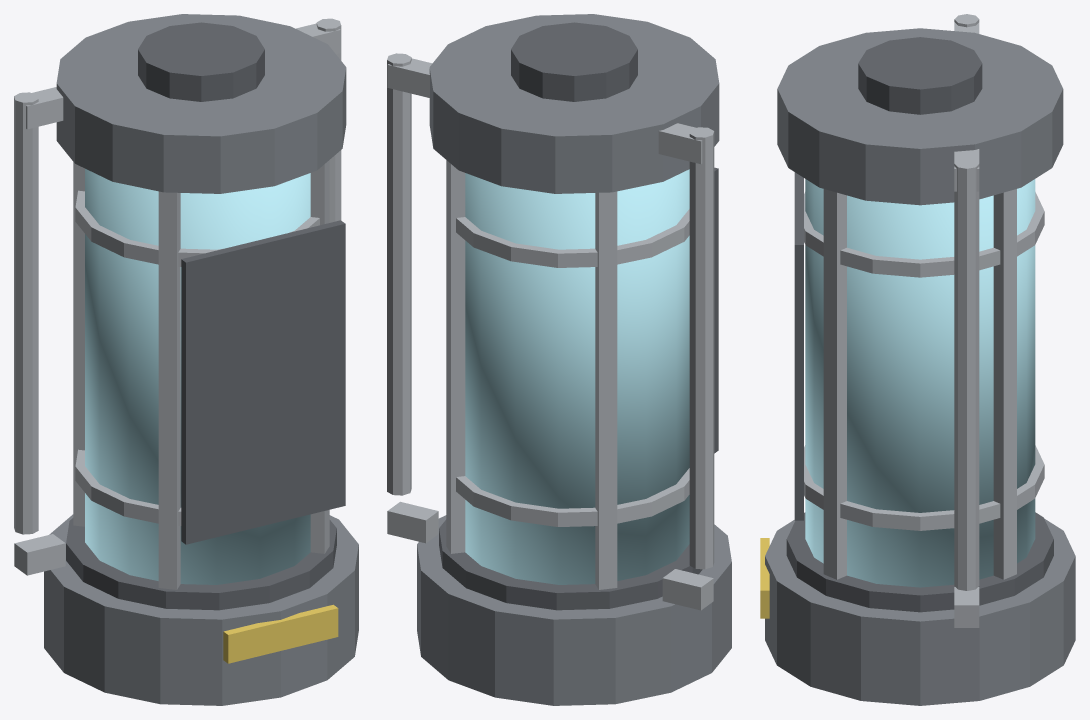
Rendered from obj_cryo.fbx.
3 renders of one model, left to right at view 1: azimuth 30°, elevation 25°; view 2: azimuth 150°, elevation 25°; view 3: azimuth 270°, elevation 25°, orthographic. The views are drawn at different scales.
Visible parts, largest first — view 1: obj_cryo; view 2: obj_cryo; view 3: obj_cryo.
Boxes of the visible parts, <box> form: obj_cryo: <box>14,14,358,705</box>; obj_cryo: <box>387,14,731,705</box>; obj_cryo: <box>760,14,1075,705</box>.
Bounding box in the file's own units: 1.18 × 2.05 × 1.01.
